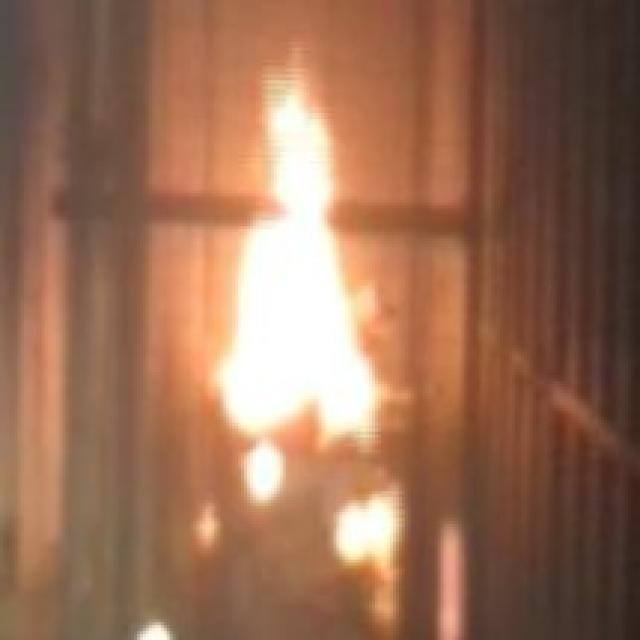Fire: (192, 48, 412, 575)
